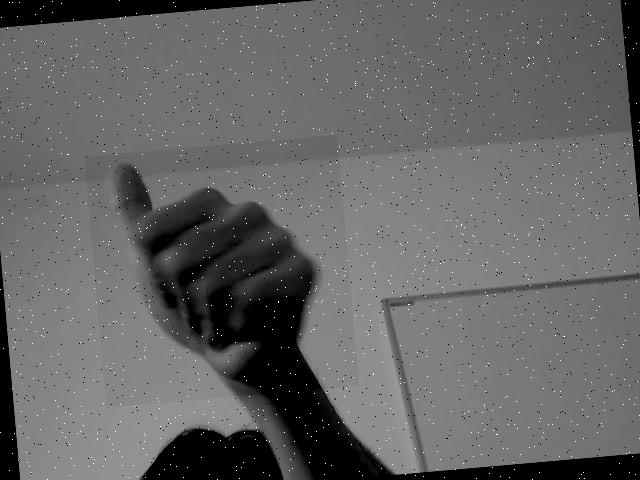good: (84, 134, 358, 407)
